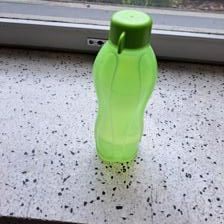bottle: (92, 9, 159, 164)
